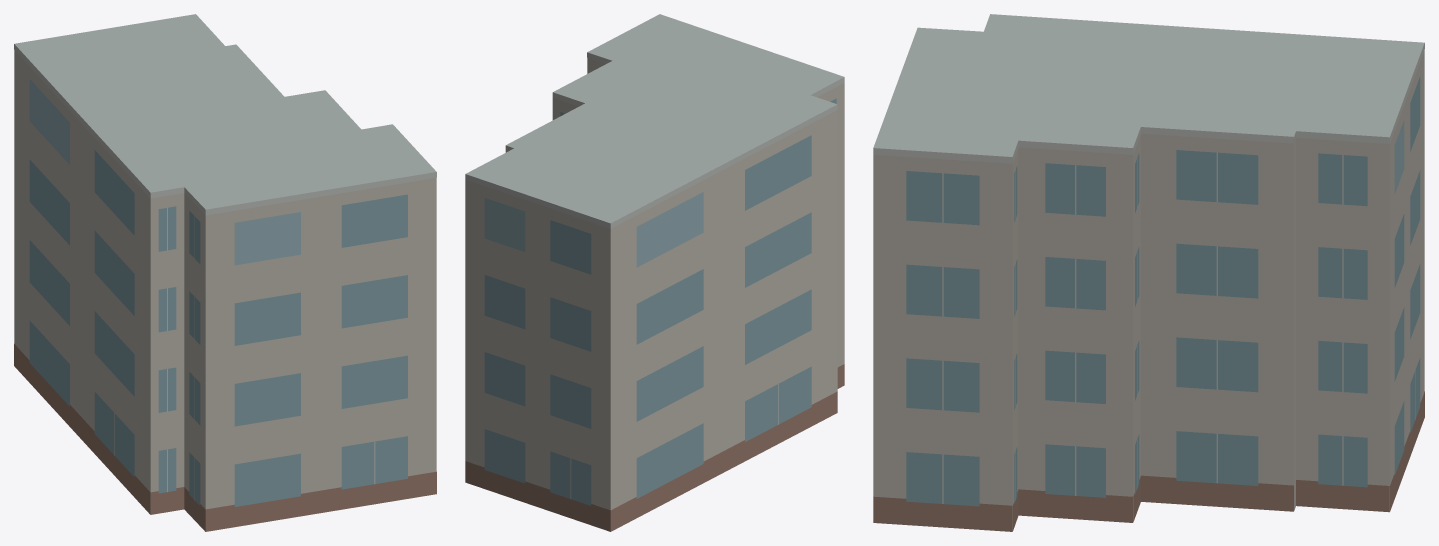
Rendered from survey-upis-32667981.glb.
3 views of the same model, side by side, from view 1: azimuth 30°, elevation 25°; view 2: azimuth 150°, elevation 25°; view 3: azimuth 270°, elevation 25° (orthographic). The views are drawn at different scales.
Parts seen in each view (by area): view 1: survey-upis-32667981.tmp; view 2: survey-upis-32667981.tmp; view 3: survey-upis-32667981.tmp.
Boxes of the visible parts, x1=… form: survey-upis-32667981.tmp: x1=14, y1=14, x2=436, y2=531; survey-upis-32667981.tmp: x1=465, y1=14, x2=844, y2=531; survey-upis-32667981.tmp: x1=873, y1=14, x2=1424, y2=531.
Bounding box in the file's own units: 11.18 × 13.65 × 18.21.
